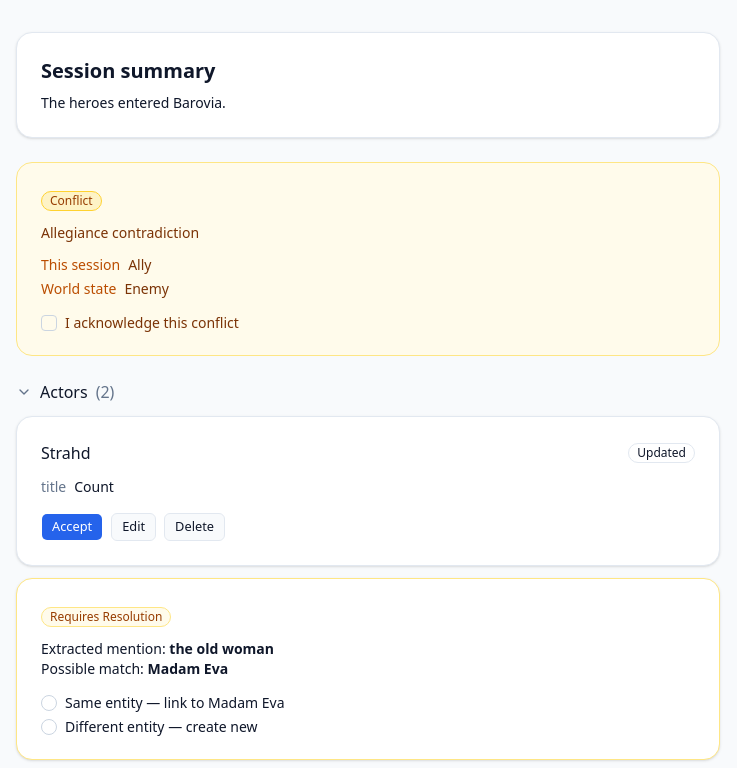
DiffReviewPage › keeps the commit button disabled until the UNCERTAIN card and conflict are resolved
Click the radio button named "same entity" next to "Same entity — link to Madam Eva" at (49, 703), box [41,695,57,711]
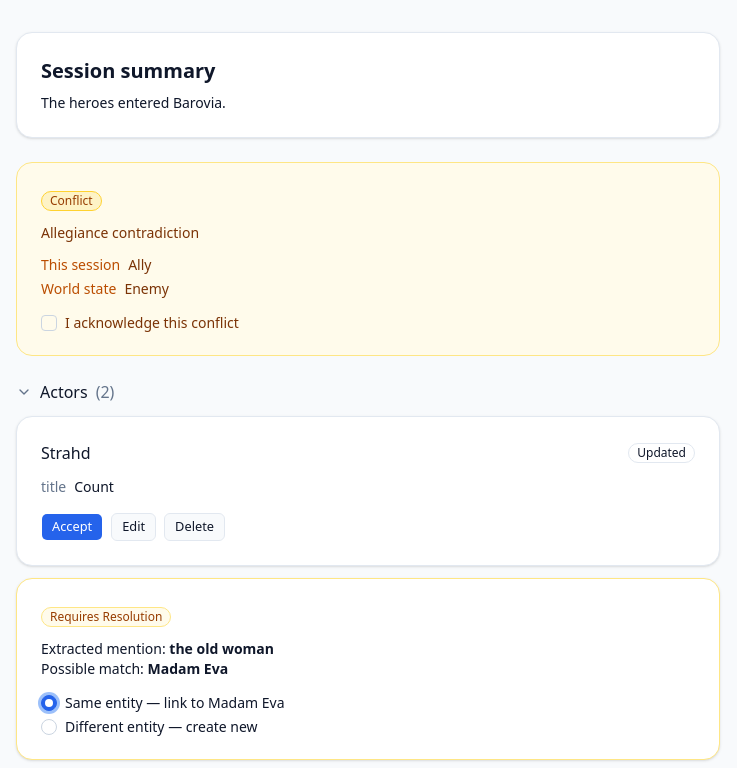
Click the checkbox named "acknowledge this conflict" at (49, 323), box [41,315,57,331]
(page scrolled)
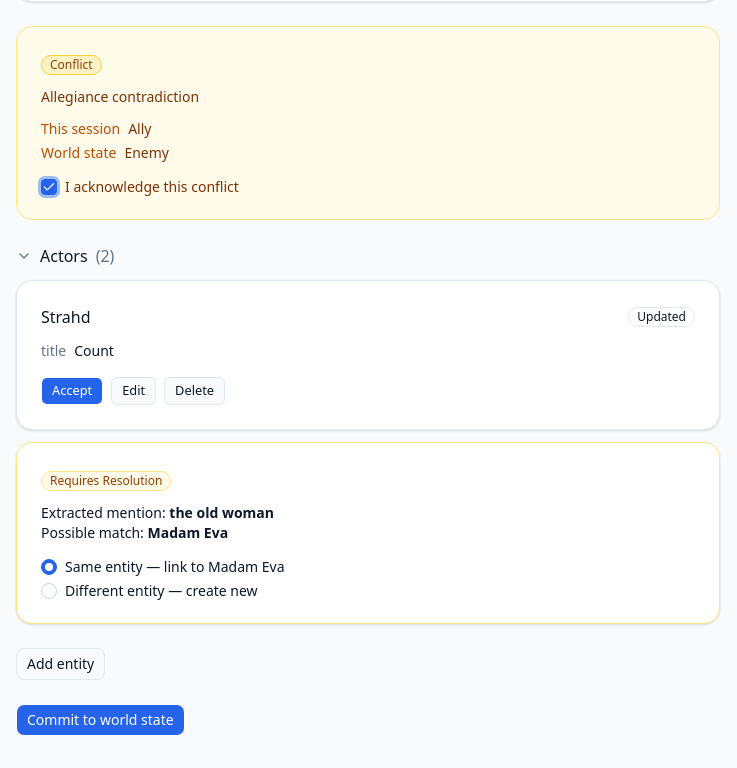
Result: the button "Commit to world state" is enabled at [16,704,185,736]
